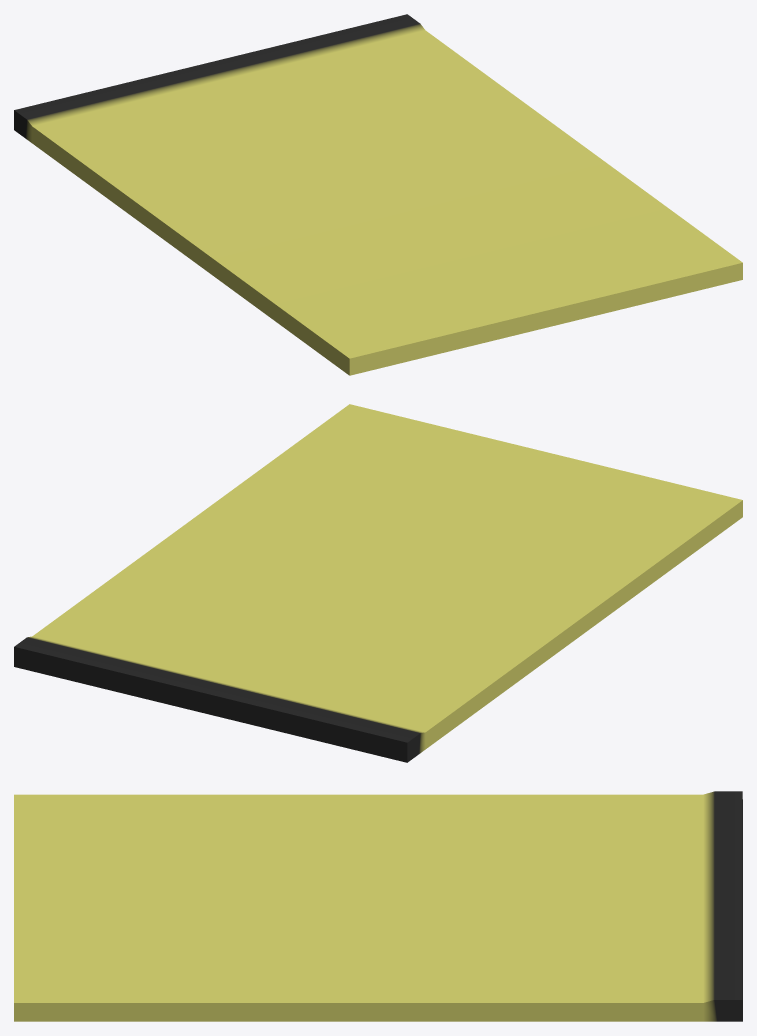
The model's file is legalPad.fbx.
3 renders of one model, top to bottom at view 1: azimuth 30°, elevation 25°; view 2: azimuth 150°, elevation 25°; view 3: azimuth 270°, elevation 25°, orthographic. The views are drawn at different scales.
Parts seen in each view (by area): view 1: pCube11; view 2: pCube11; view 3: pCube11.
Part boxes in pixels (x1,y1,x2,y2): pCube11: [14, 14, 742, 375]; pCube11: [14, 404, 742, 762]; pCube11: [14, 791, 742, 1021].
Size of the model in its own units: 1.89 by 0.0922 by 2.8.
